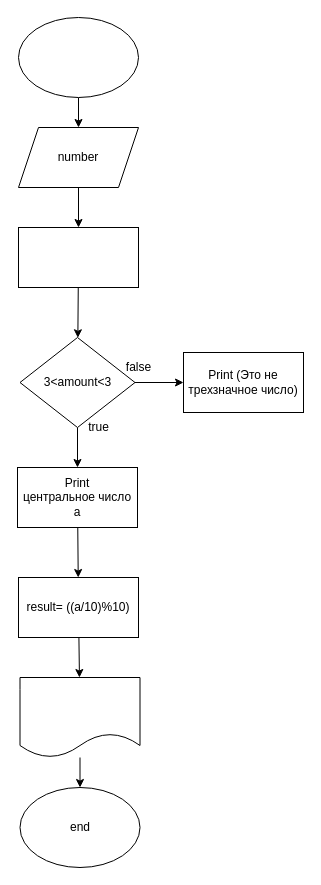
Image size: 321x885. Some labels were removed from this diagram. The shapes that lost their labels are listed below. From the top down, each one's centre as x and y in pixels, then its label:
point 78,57: start
point 78,257: amount = number length
point 79,717: Print вторая цифра трехзначного числа
